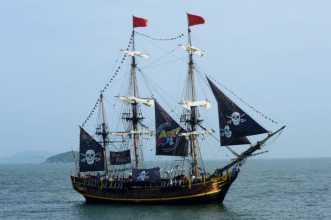fanchuan: (72, 6, 286, 206)
